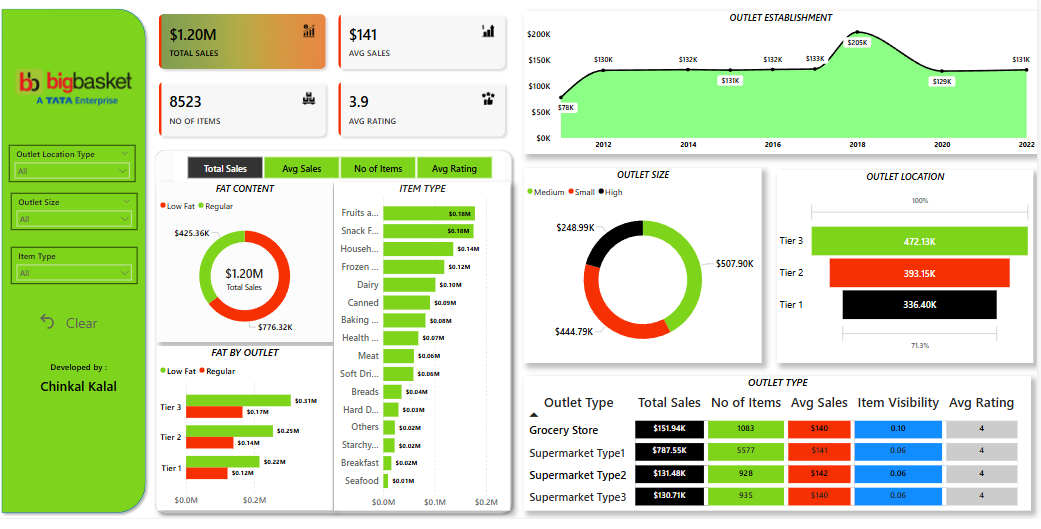

The page's visual inventory and layout, read from the dashboard file:
{"tool":"powerbi","page":{"name":"Page 1","canvas":[2000,1000],"ordinal":0},"visuals":[{"type":"shape","box":[0,12.5,294.6,987.5],"z":0},{"type":"textbox","box":[57,25.7,163.5,77.2],"z":1000},{"type":"textbox","box":[47.8,80.8,183.7,55.1],"z":2000},{"type":"cardVisual","fields":{"Data":["BlinkIT Grocery Data.Total Sales","BlinkIT Grocery Data.Avg Sales","BlinkIT Grocery Data.No of Items","BlinkIT Grocery Data.Avg Rating"]},"box":[294,12.9,700,270.1],"z":3000},{"type":"shape","box":[294.6,282.1,705.4,717.9],"z":4000},{"type":"donutChart","title":"FAT CONTENT","fields":{"Y":["BlinkIT Grocery Data.Total Sales"],"Category":["BlinkIT Grocery Data.Item Fat Content"]},"box":[307.1,353.6,337.5,307.1],"z":5000},{"type":"slicer","fields":{"Values":["Matrics.Matrics"]},"box":[340,298,636,56],"z":6000},{"type":"cardVisual","fields":{"Data":["BlinkIT Grocery Data.Total Sales"]},"box":[417.9,500,116.1,80.4],"z":7000},{"type":"clusteredBarChart","title":"FAT BY OUTLET","fields":{"Y":["BlinkIT Grocery Data.Total Sales"],"Category":["BlinkIT Grocery Data.Outlet Location Type"],"Series":["BlinkIT Grocery Data.Item Fat Content"]},"box":[307.1,669.6,337.5,316.1],"z":8000},{"type":"barChart","title":"ITEM TYPE","fields":{"Y":["BlinkIT Grocery Data.Total Sales"],"Category":["BlinkIT Grocery Data.Item Type"]},"box":[648.2,353.6,339.3,632.1],"z":9000},{"type":"lineChart","title":"OUTLET ESTABLISHMENT","fields":{"Category":["BlinkIT Grocery Data.Outlet Establishment Year"],"Y":["BlinkIT Grocery Data.Total Sales"]},"box":[1012.5,25,987.5,275],"z":10000},{"type":"donutChart","title":"OUTLET SIZE","fields":{"Y":["BlinkIT Grocery Data.Total Sales"],"Category":["BlinkIT Grocery Data.Outlet Size"]},"box":[1012.5,326.8,457.1,375],"z":11000},{"type":"funnel","title":"OUTLET LOCATION","fields":{"Category":["BlinkIT Grocery Data.Outlet Location Type"],"Y":["Sum(BlinkIT Grocery Data.Sales)"]},"box":[1500,330.4,492.9,371.4],"z":12000},{"type":"pivotTable","title":"OUTLET TYPE","fields":{"Rows":["BlinkIT Grocery Data.Outlet Type"],"Values":["BlinkIT Grocery Data.Total Sales","BlinkIT Grocery Data.No of Items","BlinkIT Grocery Data.Avg Sales","Avg(BlinkIT Grocery Data.Item Visibility)","BlinkIT Grocery Data.Avg Rating"]},"box":[1012.5,726.8,975,258.9],"z":13000},{"type":"image","box":[0,46.4,294.6,251.8],"z":14000},{"type":"slicer","fields":{"Values":["BlinkIT Grocery Data.Outlet Location Type"]},"box":[23.2,282.1,242.9,71.4],"z":15000},{"type":"slicer","fields":{"Values":["BlinkIT Grocery Data.Outlet Size"]},"box":[26.8,375,242.9,71.4],"z":16000},{"type":"slicer","fields":{"Values":["BlinkIT Grocery Data.Item Type"]},"box":[26.8,478.6,242.9,71.4],"z":17000},{"type":"actionButton","box":[76.8,601.8,119.6,39.3],"z":18000},{"type":"shape","box":[48.1,690.4,217.3,36.5],"z":18001},{"type":"shape","box":[48.1,726.9,217.3,36.5],"z":18002}]}

Visuals, with their boxes in screenshot pixels (x1, y1, x2, y2), scaled from the page's 2000x1000 canvas onto the 1041x529 screenshot:
shape: [0,7,153,528]
textbox: [30,14,115,54]
textbox: [25,43,120,72]
cardVisual - BlinkIT Grocery Data.Total Sales x BlinkIT Grocery Data.Avg Sales: [153,7,517,150]
shape: [153,149,520,528]
"FAT CONTENT" donutChart: [160,187,336,350]
slicer - Matrics.Matrics: [177,158,508,187]
cardVisual - BlinkIT Grocery Data.Total Sales: [218,264,278,307]
"FAT BY OUTLET" clusteredBarChart: [160,354,336,521]
"ITEM TYPE" barChart: [337,187,514,521]
"OUTLET ESTABLISHMENT" lineChart: [527,13,1040,159]
"OUTLET SIZE" donutChart: [527,173,765,371]
"OUTLET LOCATION" funnel: [781,175,1037,371]
"OUTLET TYPE" pivotTable: [527,384,1034,521]
image: [0,25,153,158]
slicer - BlinkIT Grocery Data.Outlet Location Type: [12,149,139,187]
slicer - BlinkIT Grocery Data.Outlet Size: [14,198,140,236]
slicer - BlinkIT Grocery Data.Item Type: [14,253,140,291]
actionButton: [40,318,102,339]
shape: [25,365,138,385]
shape: [25,385,138,404]
